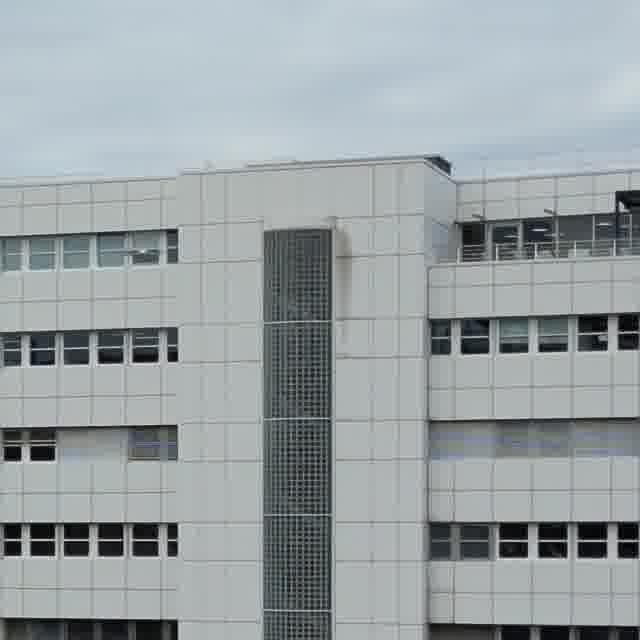Drohne: (125, 247, 158, 262)
